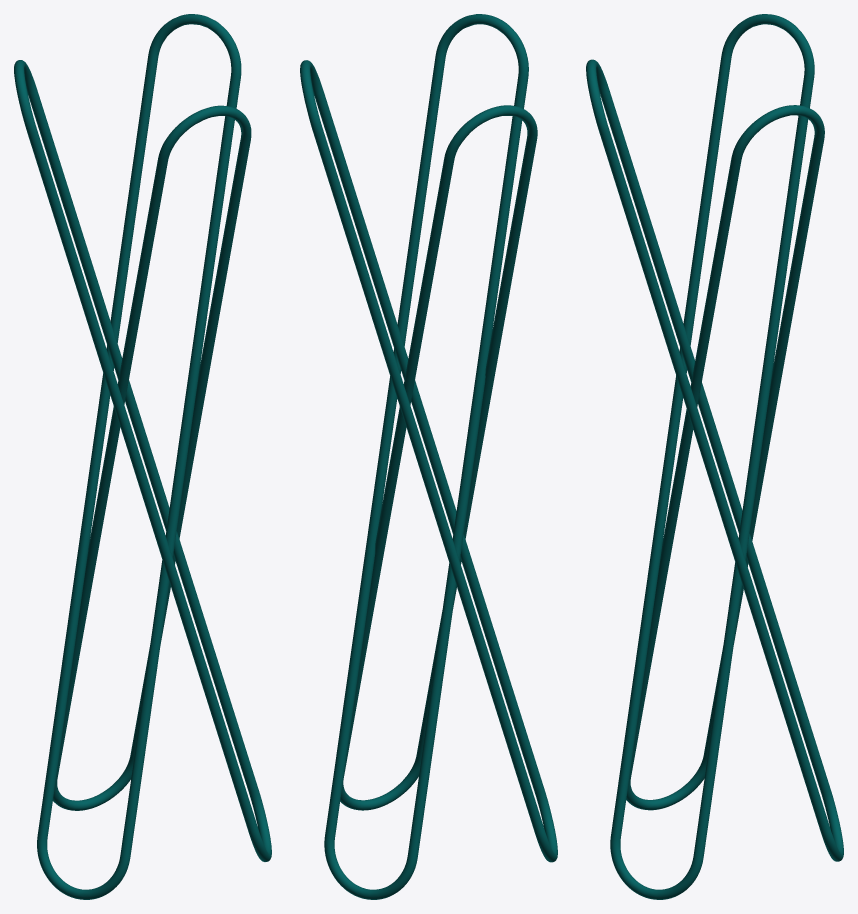
Rendered from dimensiva-hoop-coat-rack-by-covo.optimized.glb.
3 renders of one model, left to right at view 1: azimuth 30°, elevation 25°; view 2: azimuth 150°, elevation 25°; view 3: azimuth 270°, elevation 25°, orthographic.
Visible parts, largest first — view 1: Hoop Coat Rack; view 2: Hoop Coat Rack; view 3: Hoop Coat Rack.
Boxes of the visible parts, bbox=[...] form: Hoop Coat Rack: bbox=[14, 14, 271, 899]; Hoop Coat Rack: bbox=[300, 14, 557, 899]; Hoop Coat Rack: bbox=[586, 14, 843, 899].
Bounding box in the file's own units: 0.4964 × 1.69 × 0.4995.
